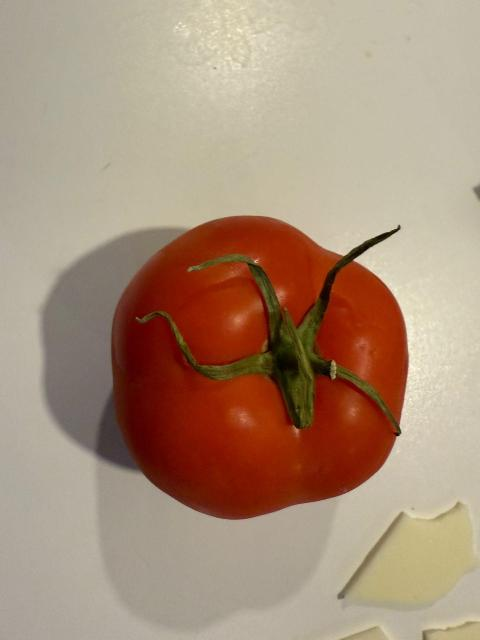Organik: (95, 203, 427, 516), (337, 508, 480, 617), (424, 611, 480, 640), (336, 621, 402, 640)
